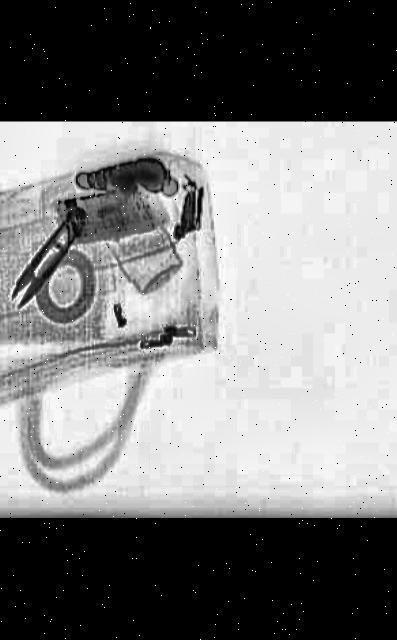Scissors: (0, 206, 99, 312)
